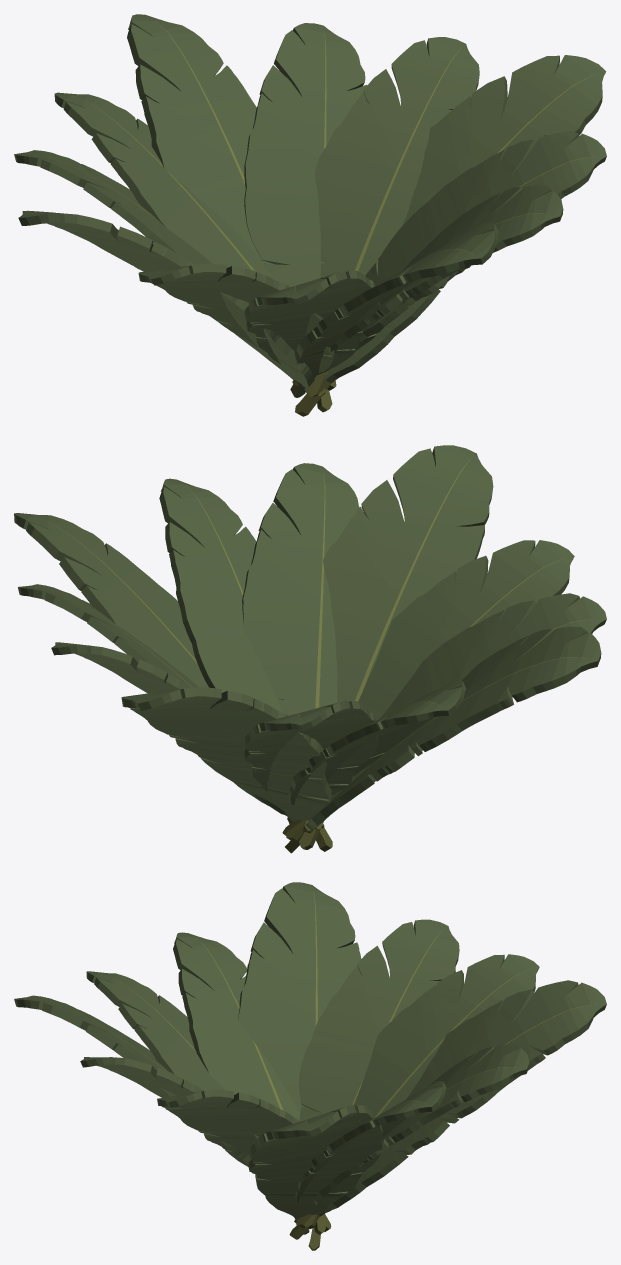
File: leaf3.fbx
3 views of the same model, one above another, from view 1: azimuth 30°, elevation 25°; view 2: azimuth 150°, elevation 25°; view 3: azimuth 270°, elevation 25° (orthographic). The views are drawn at different scales.
Parts seen in each view (by area): view 1: Plane.006, Plane.011, Plane.003, Plane.002, Plane.013, Plane.007, Plane.004, Plane.008, Plane.010, Plane.001, Plane.005, Plane.012; view 2: Plane.004, Plane.008, Plane.013, Plane.010, Plane.003, Plane.001, Plane.002, Plane.005, Plane.007, Plane.012, Plane.006, Plane.011; view 3: Plane.001, Plane.012, Plane.003, Plane.007, Plane.005, Plane.002, Plane.010, Plane.013, Plane.011, Plane.004, Plane.006, Plane.008.
Part boxes in pixels (x1,y1,x2,y2): Plane.006: (307,37,479,396); Plane.011: (244,23,367,396); Plane.003: (127,14,332,412); Plane.002: (295,55,606,416); Plane.013: (292,131,606,385); Plane.007: (54,92,336,390); Plane.004: (290,221,498,397); Plane.008: (320,185,563,360); Plane.010: (244,270,380,370); Plane.001: (18,210,317,403); Plane.005: (138,263,334,377); Plane.012: (14,150,212,264); Plane.004: (299,445,493,849); Plane.008: (242,463,359,831); Plane.013: (159,478,322,830); Plane.010: (286,540,574,841); Plane.003: (121,687,332,821); Plane.001: (285,626,601,853); Plane.002: (14,513,332,851); Plane.005: (282,593,606,835); Plane.007: (243,700,378,794); Plane.012: (287,679,466,823); Plane.006: (18,584,324,828); Plane.011: (51,642,297,802); Plane.001: (238,882,361,1250); Plane.012: (298,919,459,1228); Plane.003: (289,980,606,1239); Plane.007: (296,954,539,1228); Plane.005: (173,932,325,1234); Plane.002: (248,1105,383,1234); Plane.010: (86,971,330,1231); Plane.013: (157,1089,299,1166); Plane.011: (294,1044,529,1223); Plane.004: (14,995,331,1226); Plane.006: (294,1081,446,1219); Plane.008: (80,1057,258,1139).
Size of the model in its own units: 361 by 172 by 361.
